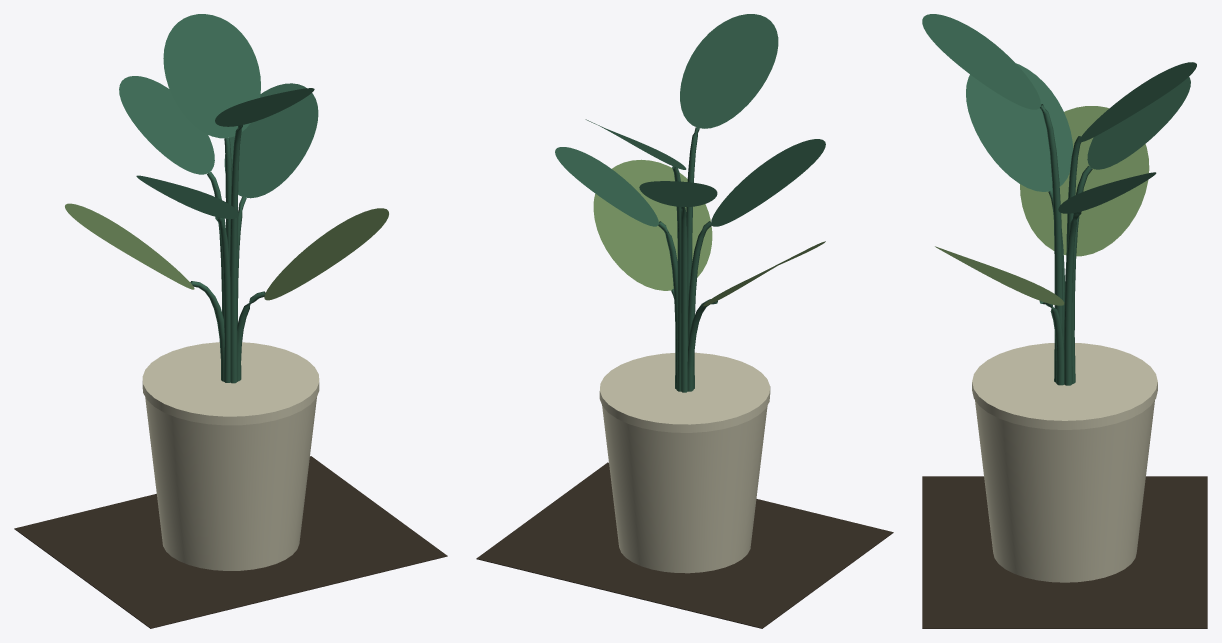
The picture shows the model from 3 angles, left to right: view 1: azimuth 30°, elevation 25°; view 2: azimuth 150°, elevation 25°; view 3: azimuth 270°, elevation 25°; orthographic projection. The views are drawn at different scales.
Visible parts, largest first — view 1: Pot, Footprint, Leaves, YoungLeaves, Stems; view 2: Pot, Footprint, Leaves, YoungLeaves, Stems; view 3: Pot, Footprint, Leaves, YoungLeaves, Stems.
Part boxes in pixels (box(x1,y1,x2,y2)): Pot: box(142, 342, 319, 570); Footprint: box(14, 456, 447, 628); Leaves: box(119, 14, 318, 218); YoungLeaves: box(65, 203, 388, 300); Stems: box(190, 125, 265, 383); Pot: box(599, 352, 770, 573); Footprint: box(476, 462, 893, 628); Leaves: box(555, 14, 825, 226); YoungLeaves: box(593, 159, 825, 306); Stems: box(658, 127, 717, 392); Pot: box(972, 343, 1157, 582); Footprint: box(922, 476, 1207, 628); Leaves: box(922, 14, 1196, 213); YoungLeaves: box(935, 106, 1149, 305); Stems: box(1039, 104, 1092, 385).
Bounding box in the file's own units: 0.4254 × 0.69 × 0.3383.
